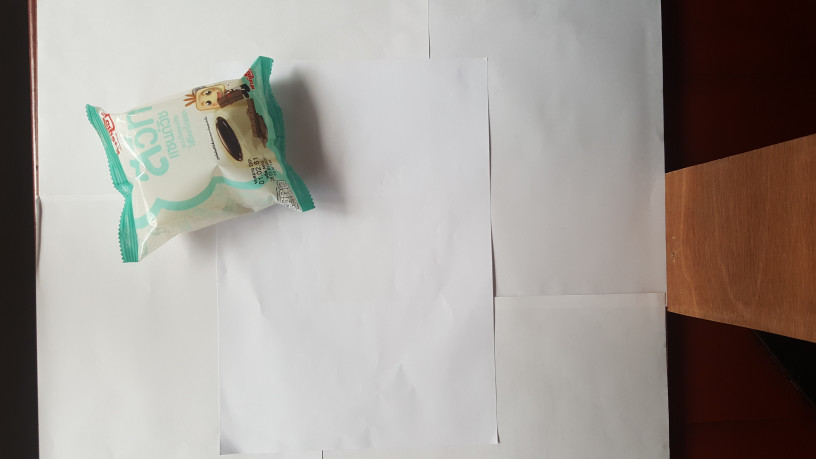farmhouse-sweetsandwich-chocolate: (82, 53, 321, 270)
